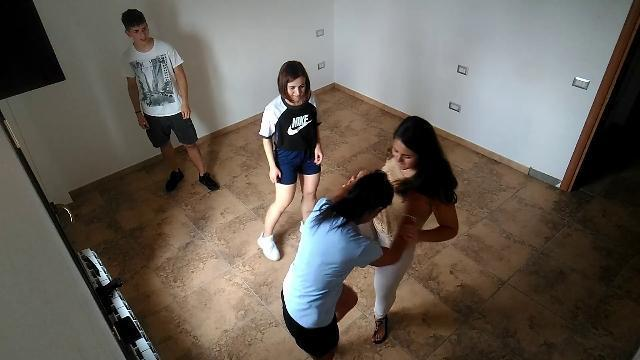non-violence: (118, 7, 222, 195), (255, 59, 327, 263)
violence: (278, 114, 460, 358)
